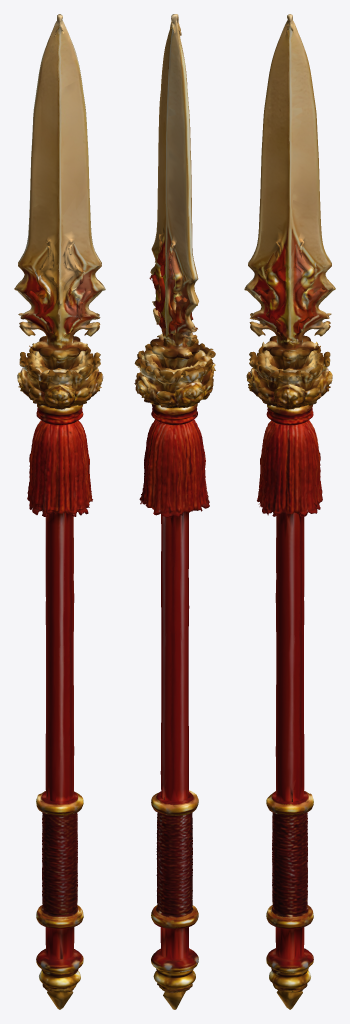
The model's file is huojianqiang.glb.
3 renders of one model, left to right at view 1: azimuth 90°, elevation 25°; view 2: azimuth 210°, elevation 25°; view 3: azimuth 270°, elevation 25°, orthographic.
Visible parts, largest first — view 1: Huojianqiang; view 2: Huojianqiang; view 3: Huojianqiang.
Boxes of the visible parts, box(x1,y1,x2,y2) form: Huojianqiang: box(14, 14, 105, 1009); Huojianqiang: box(134, 14, 215, 1009); Huojianqiang: box(244, 14, 335, 1009).
Bounding box in the file's own units: 0.1464 × 1.8 × 0.1502.
Materials: 1 (1 with a texture image).
